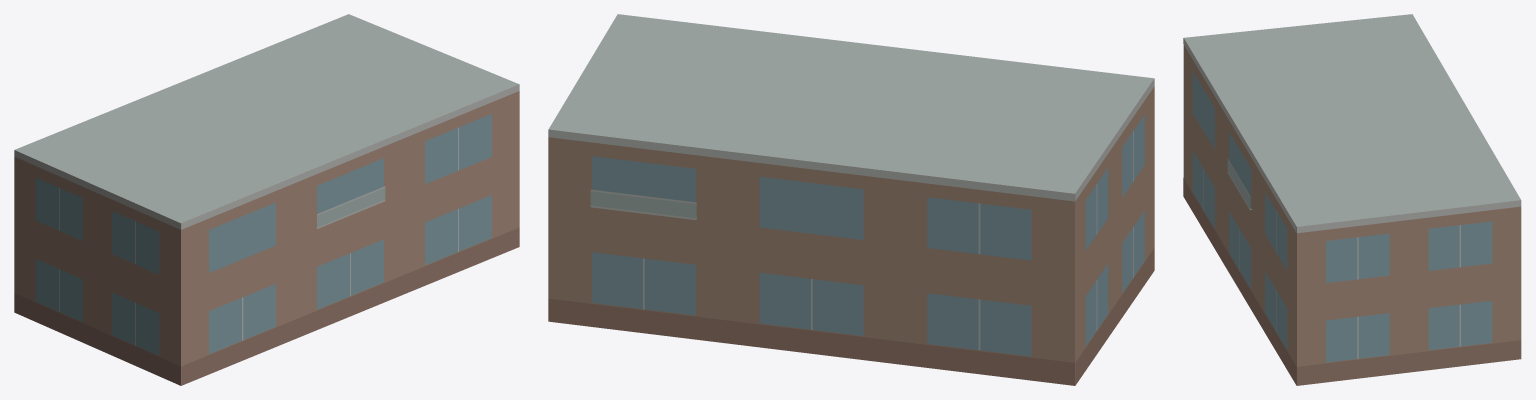
The model's file is survey-upis-32715186.glb.
3 views of the same model, side by side, from view 1: azimuth 30°, elevation 25°; view 2: azimuth 150°, elevation 25°; view 3: azimuth 270°, elevation 25° (orthographic). The views are drawn at different scales.
Parts seen in each view (by area): view 1: survey-upis-32715186.tmp; view 2: survey-upis-32715186.tmp; view 3: survey-upis-32715186.tmp.
Part boxes in pixels (x1,y1,x2,y2): survey-upis-32715186.tmp: (14,14,519,385); survey-upis-32715186.tmp: (548,14,1154,385); survey-upis-32715186.tmp: (1183,14,1521,385).
Bounding box in the file's own units: 17.54 × 6.1 × 11.76.
